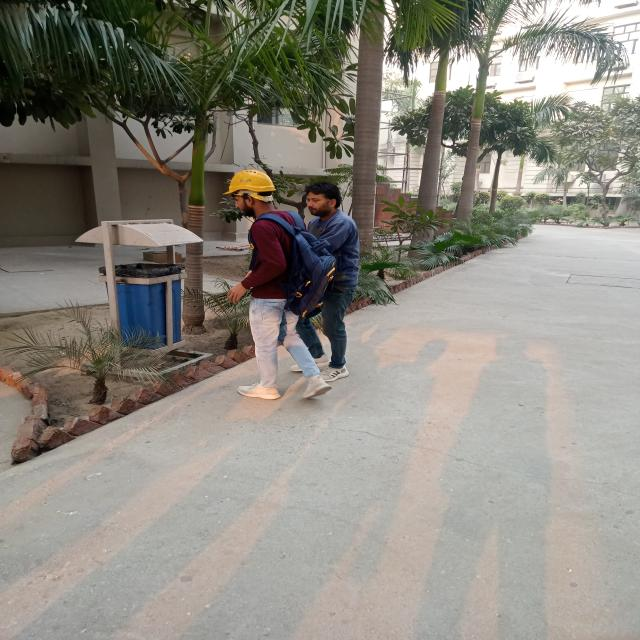no jacket: (221, 160, 307, 399)
unsafe: (296, 180, 366, 380)
